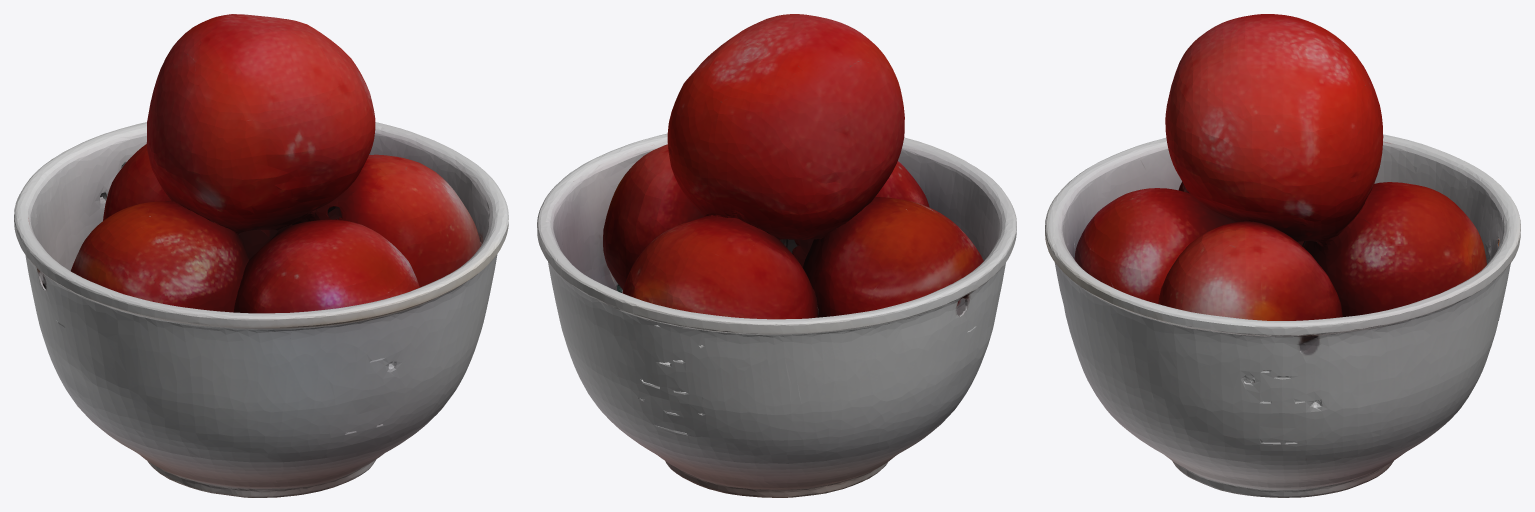
The model's file is Gulab_Jamun.glb.
3 views of the same model, side by side, from view 1: azimuth 30°, elevation 25°; view 2: azimuth 150°, elevation 25°; view 3: azimuth 270°, elevation 25° (orthographic). The views are drawn at different scales.
Visible parts, largest first — view 1: world; view 2: world; view 3: world.
Boxes of the visible parts, x1,y1,x2,y2 form: world: (14,14,508,497); world: (537,14,1016,497); world: (1045,14,1520,497).
Size of the model in its own units: 1 by 0.9684 by 1.
1 material, 1 textured.
